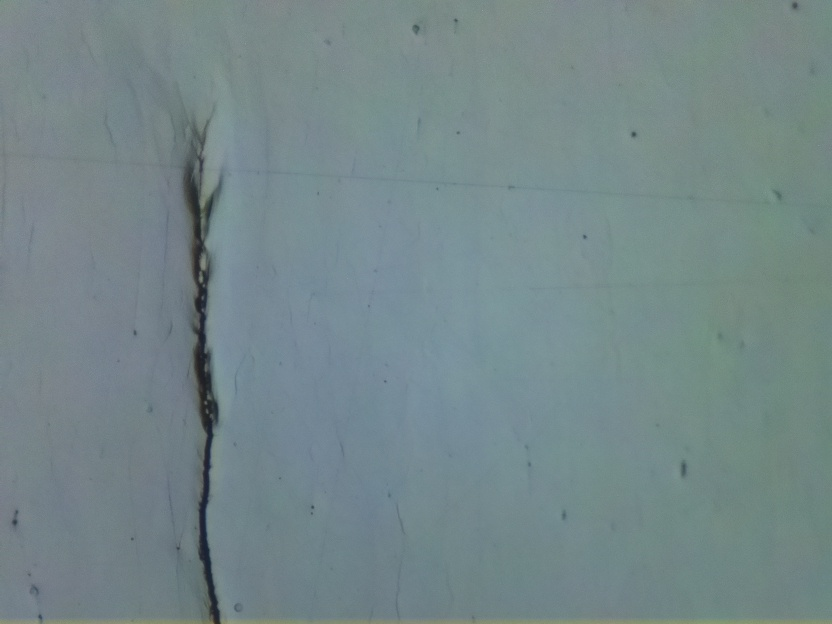crack: (182, 102, 233, 624)
